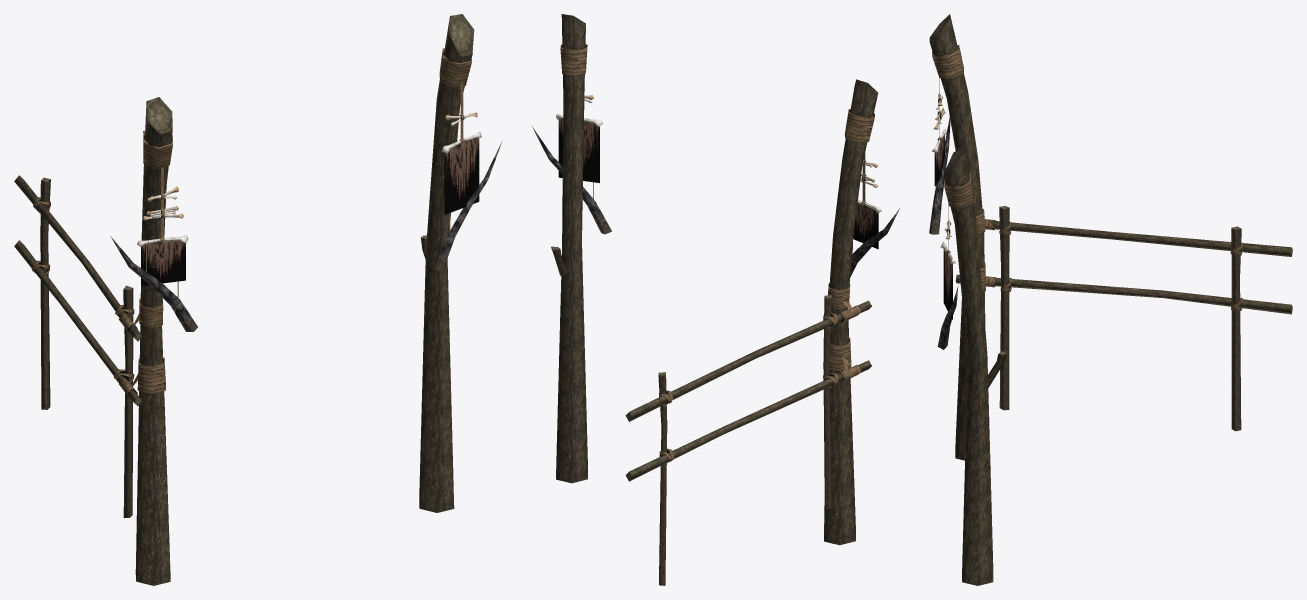
The model's file is thm_dant_gate_l1.fbx.
3 views of the same model, side by side, from view 1: azimuth 30°, elevation 25°; view 2: azimuth 150°, elevation 25°; view 3: azimuth 270°, elevation 25° (orthographic). The views are drawn at different scales.
Parts seen in each view (by area): view 1: mesh_node; view 2: mesh_node; view 3: mesh_node.
Boxes of the visible parts, x1=… form: mesh_node: x1=14, y1=14, x2=501, y2=585; mesh_node: x1=532, y1=14, x2=899, y2=585; mesh_node: x1=929, y1=14, x2=1292, y2=585.
Size of the model in its own units: 4.21 by 4.99 by 3.78.
